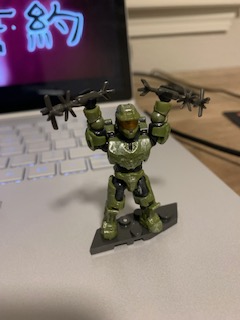chief: (77, 84, 173, 241)
spartan: (75, 82, 171, 239)
up: (79, 86, 172, 168)
